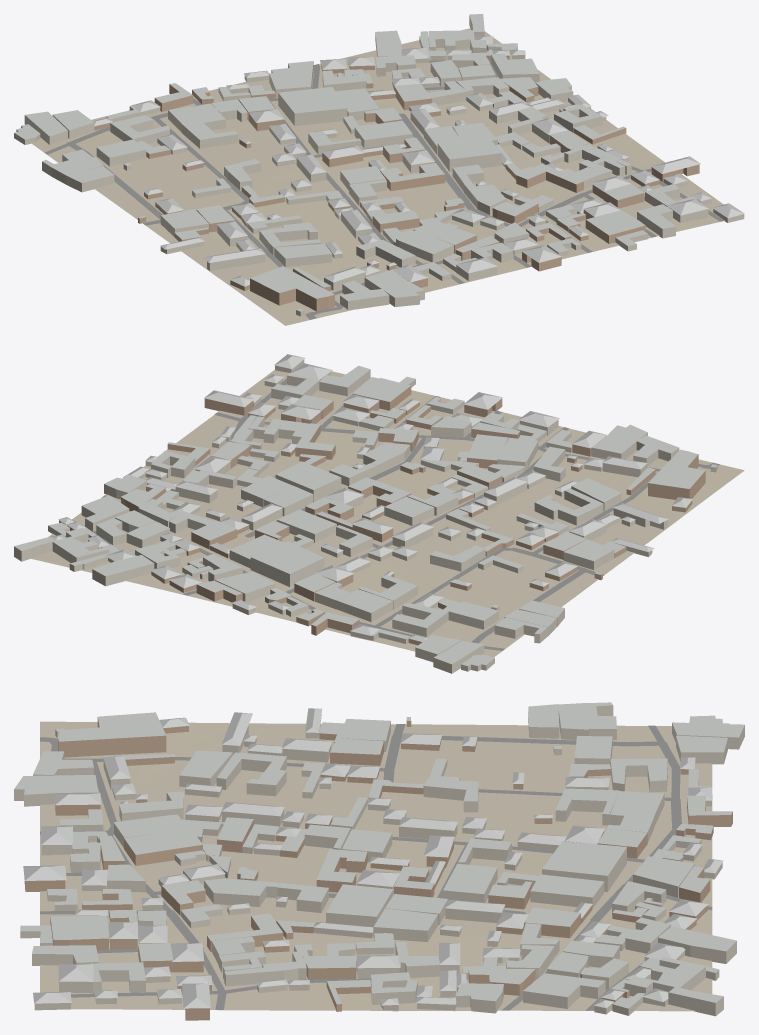
Rendered from bolak_-10_5.glb.
3 renders of one model, top to bottom at view 1: azimuth 30°, elevation 25°; view 2: azimuth 150°, elevation 25°; view 3: azimuth 270°, elevation 25°, orthographic. The views are drawn at different scales.
Visible parts, largest first — view 1: Tom_Shifer, Yer_Tuproq-col, Devor_Suvoq-col, Devor_Gisht-col, Yol_Mahalla-col; view 2: Tom_Shifer, Yer_Tuproq-col, Devor_Suvoq-col, Devor_Gisht-col, Yol_Mahalla-col; view 3: Tom_Shifer, Yer_Tuproq-col, Devor_Suvoq-col, Devor_Gisht-col, Yol_Mahalla-col.
Boxes of the visible parts, bbox=[...] form: Tom_Shifer: bbox=[14, 14, 744, 311]; Yer_Tuproq-col: bbox=[31, 28, 723, 325]; Devor_Suvoq-col: bbox=[14, 15, 744, 316]; Devor_Gisht-col: bbox=[94, 55, 699, 311]; Yol_Mahalla-col: bbox=[44, 60, 724, 319]; Tom_Shifer: bbox=[14, 354, 717, 665]; Yer_Tuproq-col: bbox=[29, 370, 744, 657]; Devor_Suvoq-col: bbox=[14, 359, 717, 673]; Devor_Gisht-col: bbox=[67, 386, 705, 645]; Yol_Mahalla-col: bbox=[72, 378, 719, 650]; Tom_Shifer: bbox=[14, 702, 744, 1008]; Yer_Tuproq-col: bbox=[40, 721, 712, 1011]; Devor_Suvoq-col: bbox=[14, 705, 744, 1016]; Devor_Gisht-col: bbox=[24, 717, 732, 1020]; Yol_Mahalla-col: bbox=[40, 724, 712, 1010].
Size of what is drawn, in the model's own units: 431 by 14.71 by 435.
